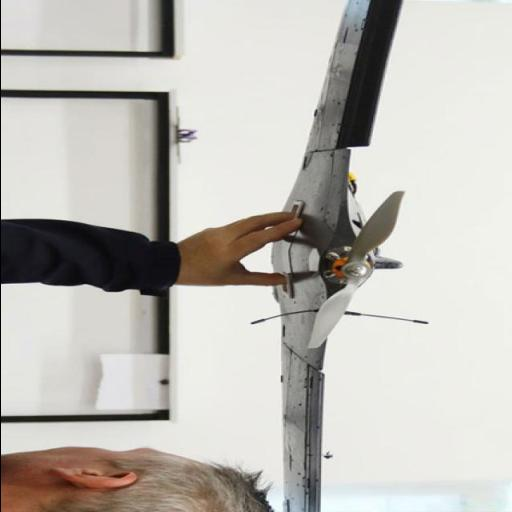uav: (250, 0, 437, 511)
